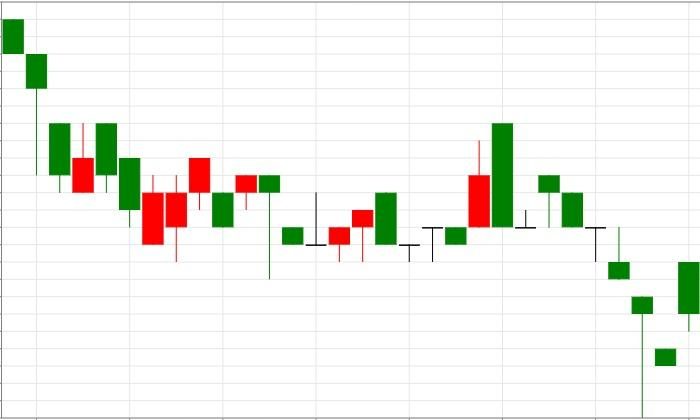bearish_engulfing_fall: (399, 122, 512, 261)
hammer_rise: (538, 174, 653, 417)
